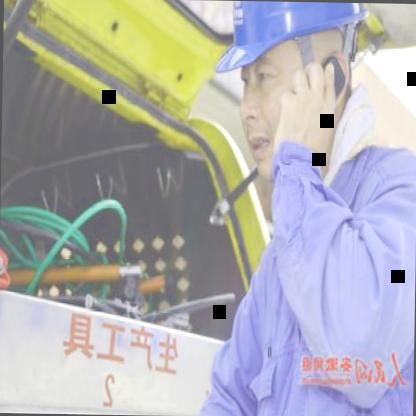helmet: (213, 0, 368, 180)
